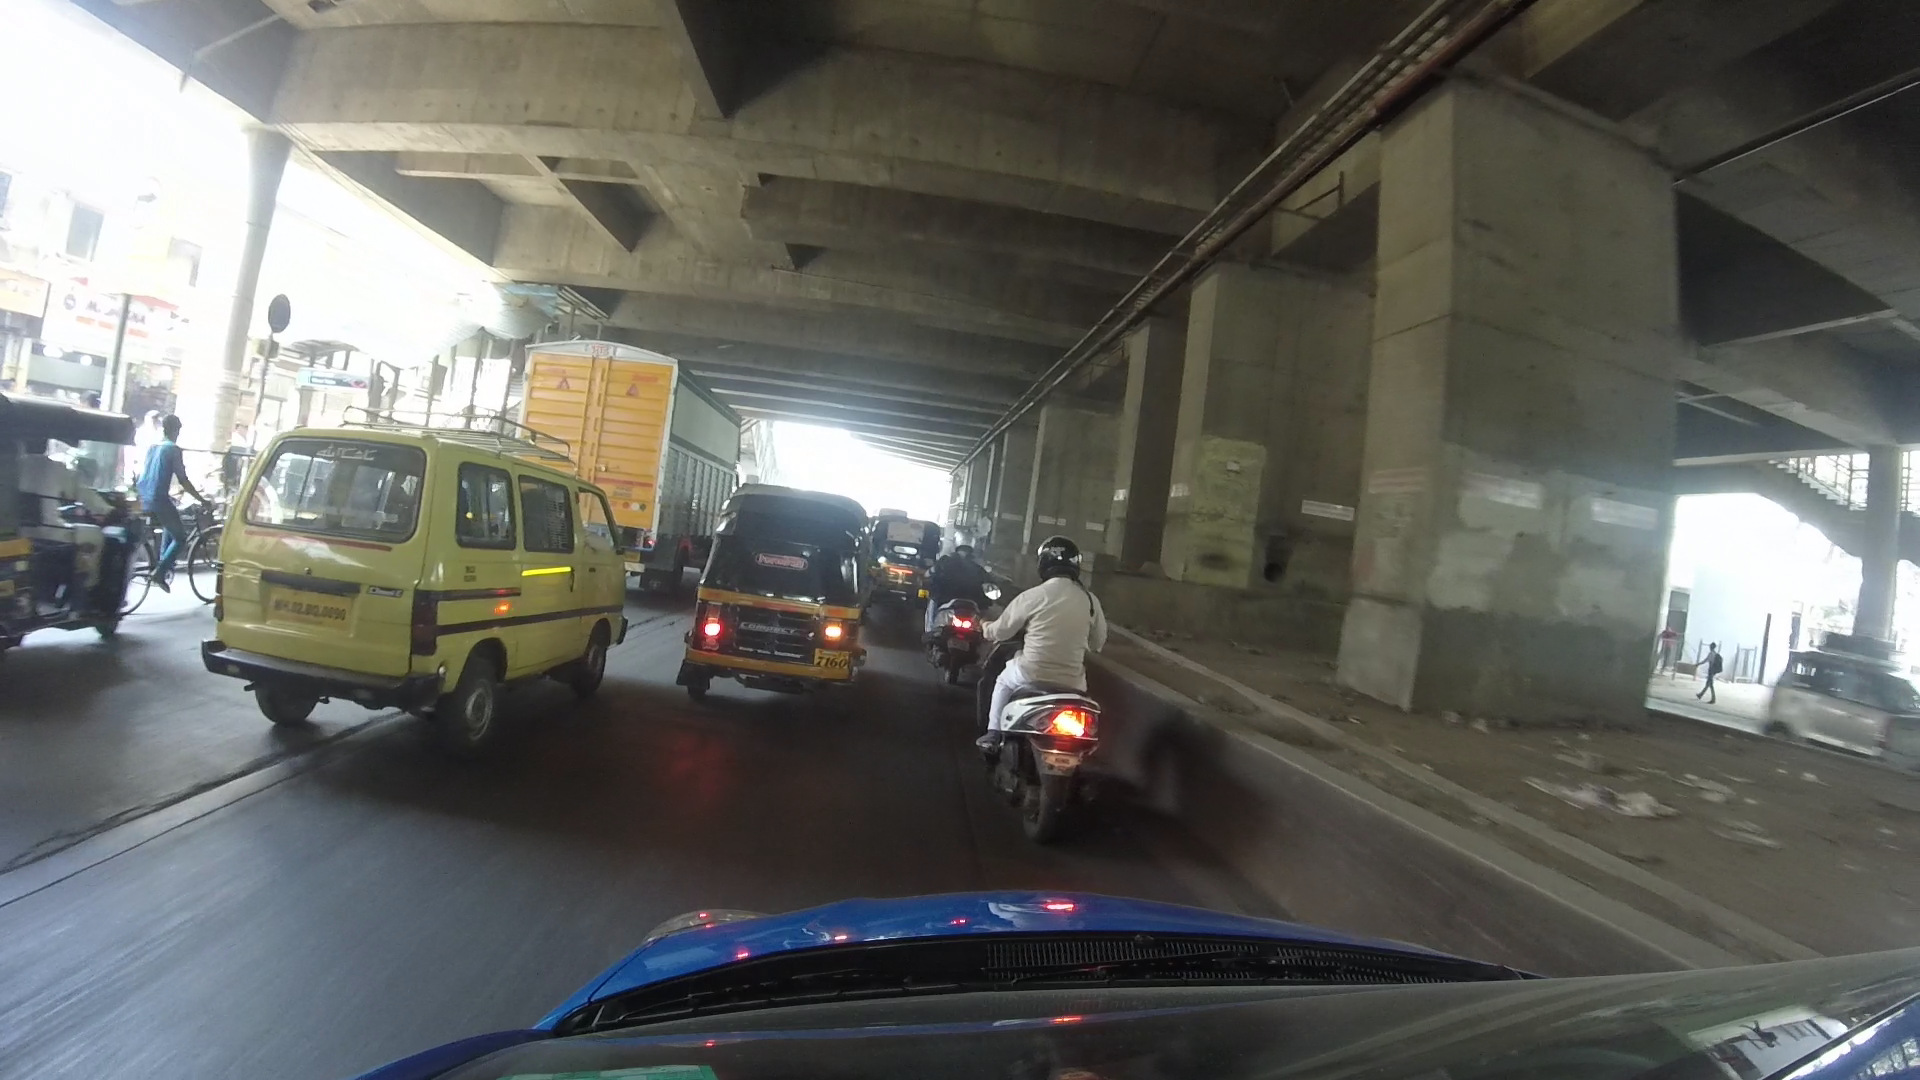bike/scooter: (982, 546, 1151, 843), (915, 524, 1007, 671)
car: (199, 402, 632, 760)
rickshaw: (4, 392, 156, 694), (684, 473, 881, 705)
truck: (508, 324, 740, 587)
